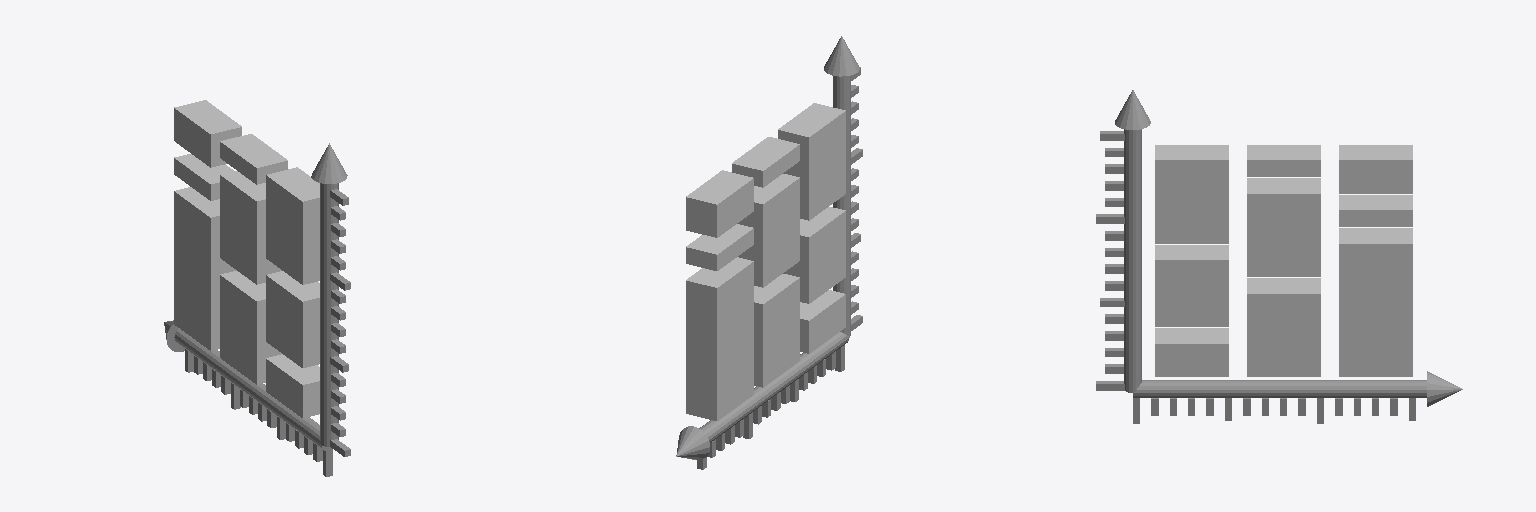
File: Icon3D2Ord1Nom.obj
3 renders of one model, left to right at view 1: azimuth 30°, elevation 25°; view 2: azimuth 150°, elevation 25°; view 3: azimuth 270°, elevation 25°, orthographic.
Parts seen in each view (by area): view 1: Cube.012_Cube.013, Cube.006_Cube.007, Cube.005_Cube.006, Cube.012_Cube.000, Cube.003_Cube.004, Cube.002_Cube.003, Cube.001_Cube.002, Cube.008_Cube.009, Cube_Cube.001, Cube.004_Cube.005, Cube.007_Cube.008; view 2: Cube.006_Cube.007, Cube.012_Cube.000, Cube.005_Cube.006, Cube.003_Cube.004, Cube.002_Cube.003, Cube.012_Cube.013, Cube.001_Cube.002, Cube.008_Cube.009, Cube_Cube.001, Cube.004_Cube.005, Cube.007_Cube.008; view 3: Cube.006_Cube.007, Cube.012_Cube.013, Cube.012_Cube.000, Cube.005_Cube.006, Cube.003_Cube.004, Cube.002_Cube.003, Cube.001_Cube.002, Cube.008_Cube.009, Cube_Cube.001, Cube.007_Cube.008, Cube.004_Cube.005.
Boxes of the visible parts, x1=… form: Cube.012_Cube.013: x1=311, y1=143, x2=350, y2=456; Cube.006_Cube.007: x1=174, y1=187, x2=236, y2=350; Cube.005_Cube.006: x1=266, y1=167, x2=319, y2=284; Cube.012_Cube.000: x1=164, y1=320, x2=332, y2=476; Cube.003_Cube.004: x1=220, y1=171, x2=281, y2=284; Cube.002_Cube.003: x1=220, y1=271, x2=281, y2=384; Cube.001_Cube.002: x1=266, y1=271, x2=319, y2=367; Cube.008_Cube.009: x1=174, y1=100, x2=241, y2=167; Cube_Cube.001: x1=266, y1=354, x2=319, y2=417; Cube.004_Cube.005: x1=220, y1=134, x2=287, y2=184; Cube.007_Cube.008: x1=174, y1=154, x2=233, y2=200; Cube.006_Cube.007: x1=686, y1=257, x2=753, y2=420; Cube.012_Cube.000: x1=676, y1=332, x2=849, y2=469; Cube.005_Cube.006: x1=778, y1=103, x2=845, y2=220; Cube.003_Cube.004: x1=737, y1=174, x2=799, y2=287; Cube.002_Cube.003: x1=754, y1=274, x2=799, y2=387; Cube.012_Cube.013: x1=824, y1=36, x2=862, y2=336; Cube.001_Cube.002: x1=783, y1=207, x2=845, y2=303; Cube.008_Cube.009: x1=686, y1=170, x2=753, y2=237; Cube_Cube.001: x1=800, y1=290, x2=845, y2=353; Cube.004_Cube.005: x1=732, y1=137, x2=799, y2=187; Cube.007_Cube.008: x1=686, y1=224, x2=753, y2=270; Cube.006_Cube.007: x1=1339, y1=228, x2=1412, y2=376; Cube.012_Cube.013: x1=1096, y1=90, x2=1150, y2=392; Cube.012_Cube.000: x1=1133, y1=371, x2=1462, y2=423; Cube.005_Cube.006: x1=1155, y1=145, x2=1228, y2=243; Cube.003_Cube.004: x1=1247, y1=178, x2=1320, y2=276; Cube.002_Cube.003: x1=1247, y1=278, x2=1320, y2=376; Cube.001_Cube.002: x1=1155, y1=245, x2=1228, y2=326; Cube.008_Cube.009: x1=1339, y1=145, x2=1412, y2=193; Cube_Cube.001: x1=1155, y1=328, x2=1228, y2=376; Cube.007_Cube.008: x1=1339, y1=195, x2=1412, y2=226; Cube.004_Cube.005: x1=1247, y1=145, x2=1320, y2=176.
Bounding box in the file's own units: 0.0202 × 0.2 × 0.2.